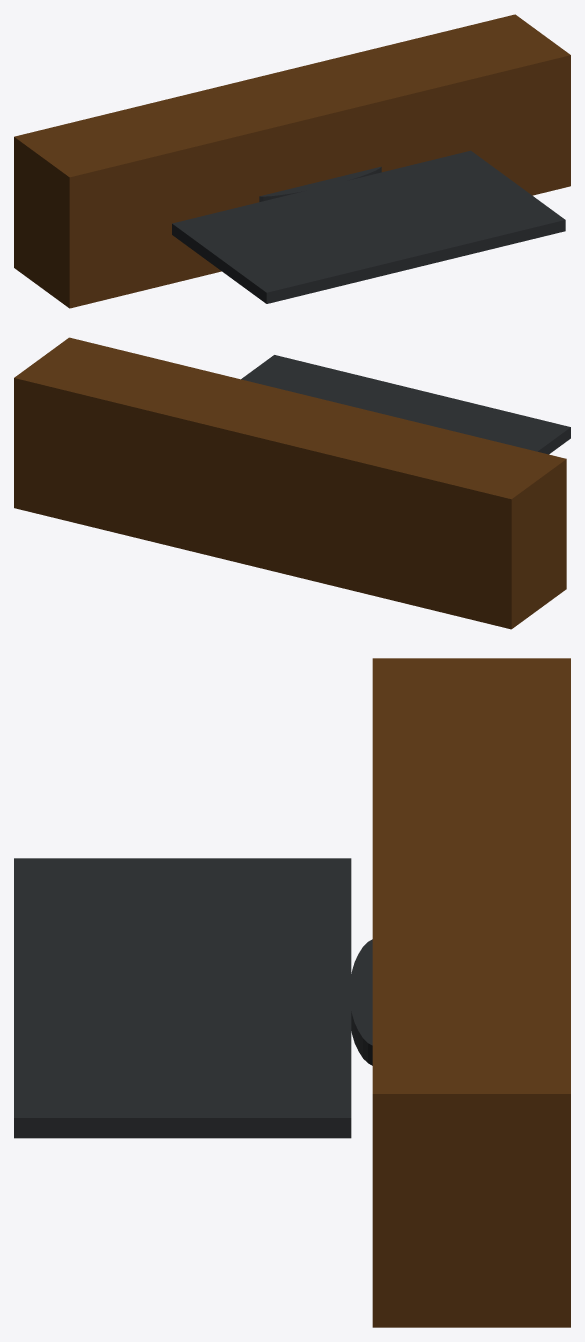
File: tinker.obj
3 renders of one model, top to bottom at view 1: azimuth 30°, elevation 25°; view 2: azimuth 150°, elevation 25°; view 3: azimuth 270°, elevation 25°, orthographic. The views are drawn at different scales.
Visible parts, largest first — view 1: obj_0, obj_1; view 2: obj_0, obj_1; view 3: obj_0, obj_1.
Boxes of the visible parts, x1,y1,x2,y2 form: obj_0: (14,14,570,308); obj_1: (172,150,565,303); obj_0: (14,337,566,629); obj_1: (241,355,570,454); obj_0: (372,658,570,1327); obj_1: (14,858,372,1138).
Size of the model in its own units: 104 by 26 by 56.16.
